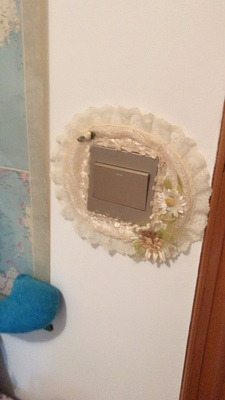switch: (90, 157, 149, 216)
